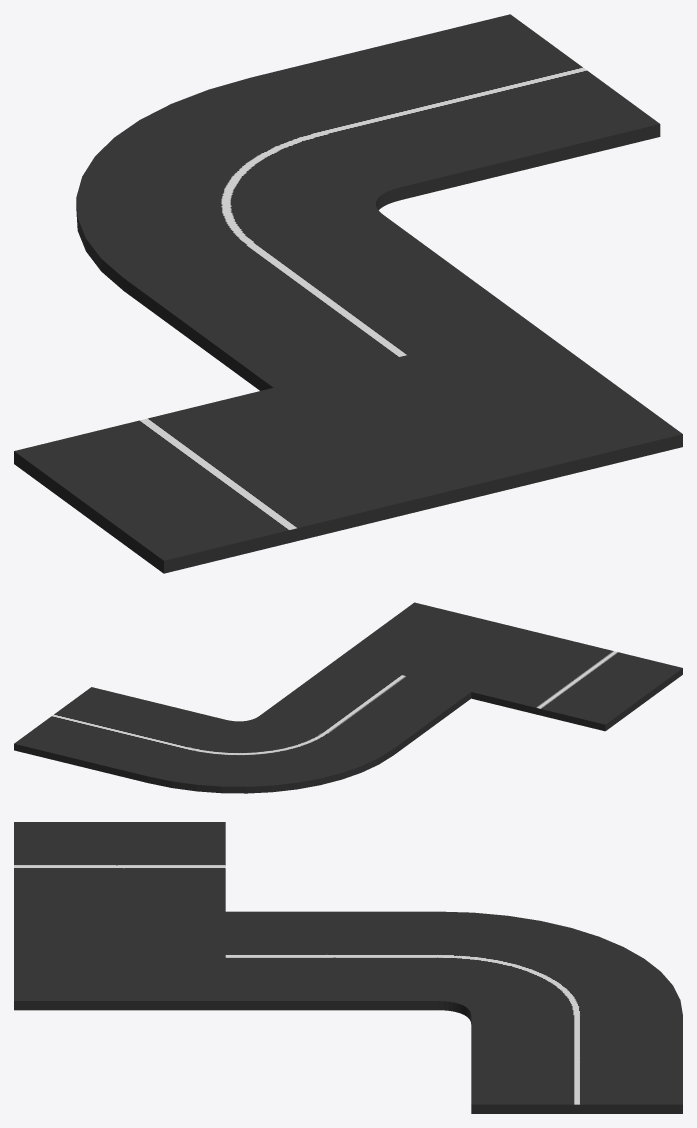
The model's file is Roads.fbx.
3 views of the same model, one above another, from view 1: azimuth 30°, elevation 25°; view 2: azimuth 150°, elevation 25°; view 3: azimuth 270°, elevation 25° (orthographic). The views are drawn at different scales.
Parts seen in each view (by area): view 1: R3, R2, R1; view 2: R3, R2, R1; view 3: R3, R1, R2.
Part boxes in pixels (box(x1,y1,x2,y2)): R3: box(76, 14, 660, 390); R2: box(14, 388, 423, 573); R1: box(274, 324, 682, 510); R3: box(14, 659, 471, 793); R2: box(471, 635, 682, 731); R1: box(337, 602, 548, 691); R3: box(225, 911, 682, 1113); R1: box(14, 911, 225, 1010); R2: box(14, 822, 225, 911).
Size of the model in its own units: 1990 by 30 by 1990.
Materials: 1 (1 with a texture image).
